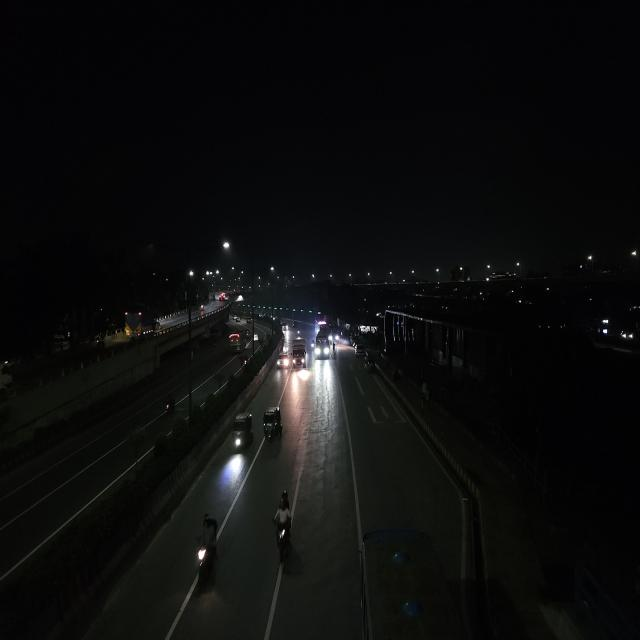bus: (227, 326, 248, 354), (316, 326, 332, 362)
car: (276, 349, 290, 372), (353, 342, 366, 358)
cng: (230, 410, 256, 456), (261, 405, 285, 443), (364, 354, 378, 374), (251, 330, 261, 344)
motorcycle: (270, 491, 302, 576), (190, 509, 222, 589), (160, 392, 180, 418)
truck: (123, 305, 160, 342), (291, 338, 307, 369)
